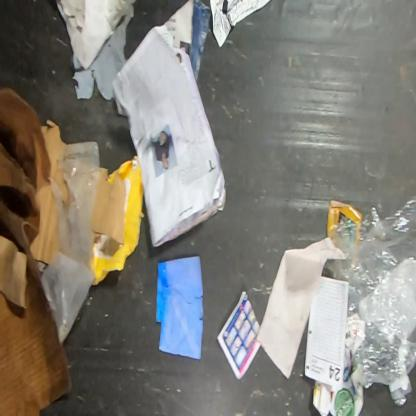cardboard: (0, 86, 72, 416), (90, 167, 127, 243)
soft_plastic: (330, 197, 415, 409), (38, 140, 99, 346)
